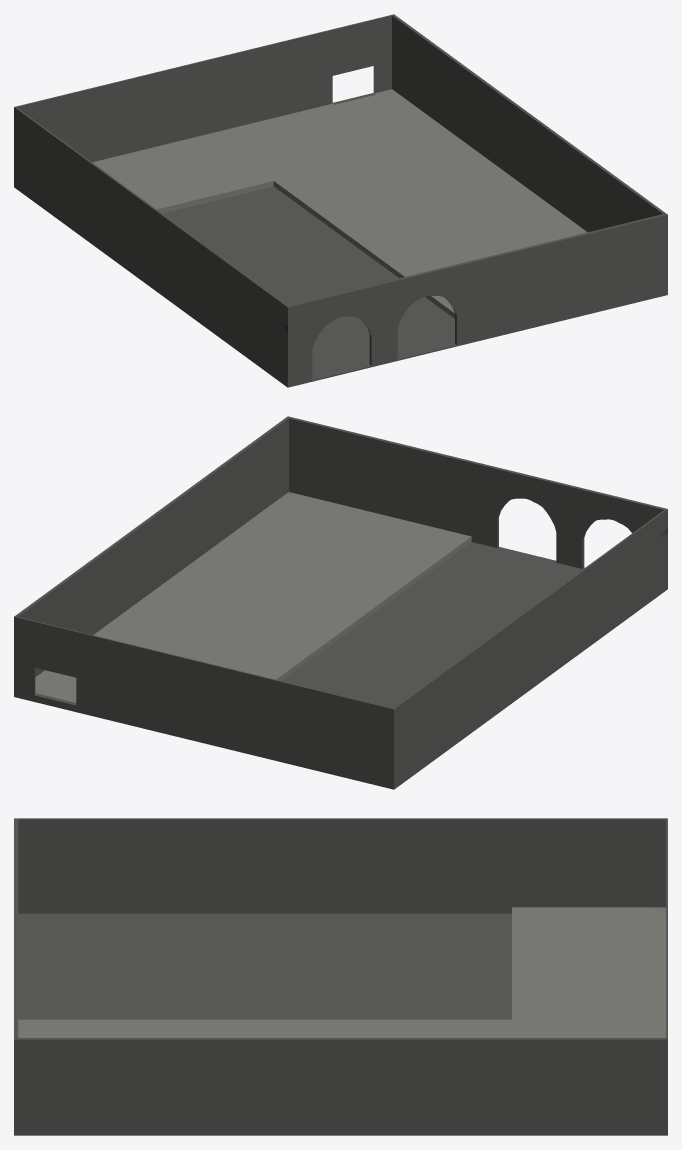
File: Műhely V2.fbx
The picture shows the model from 3 angles, top to bottom: view 1: azimuth 30°, elevation 25°; view 2: azimuth 150°, elevation 25°; view 3: azimuth 270°, elevation 25°; orthographic projection. The views are drawn at different scales.
Visible parts, largest first — view 1: Műhely épület; view 2: Műhely épület; view 3: Műhely épület.
Boxes of the visible parts, bbox=[...] form: Műhely épület: bbox=[14, 14, 667, 387]; Műhely épület: bbox=[14, 416, 667, 789]; Műhely épület: bbox=[14, 818, 667, 1135].
Bounding box in the file's own units: 14067 × 2839 × 17556.
Materials: 1 (1 with a texture image).
